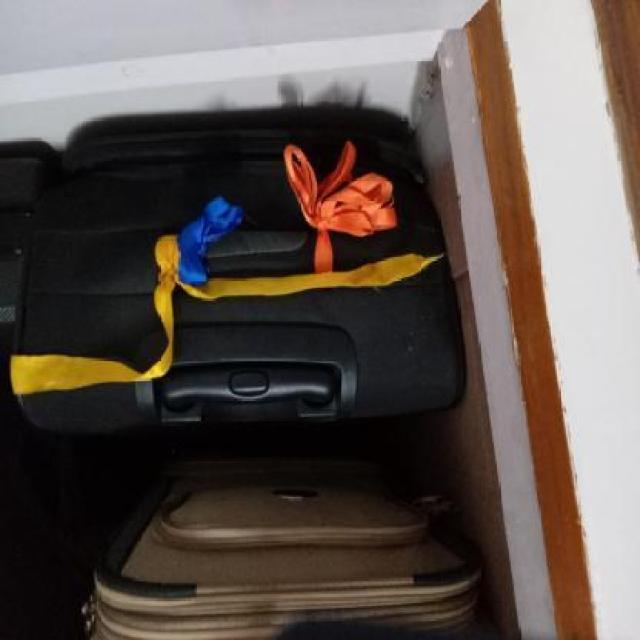backpack: (3, 120, 475, 443)
